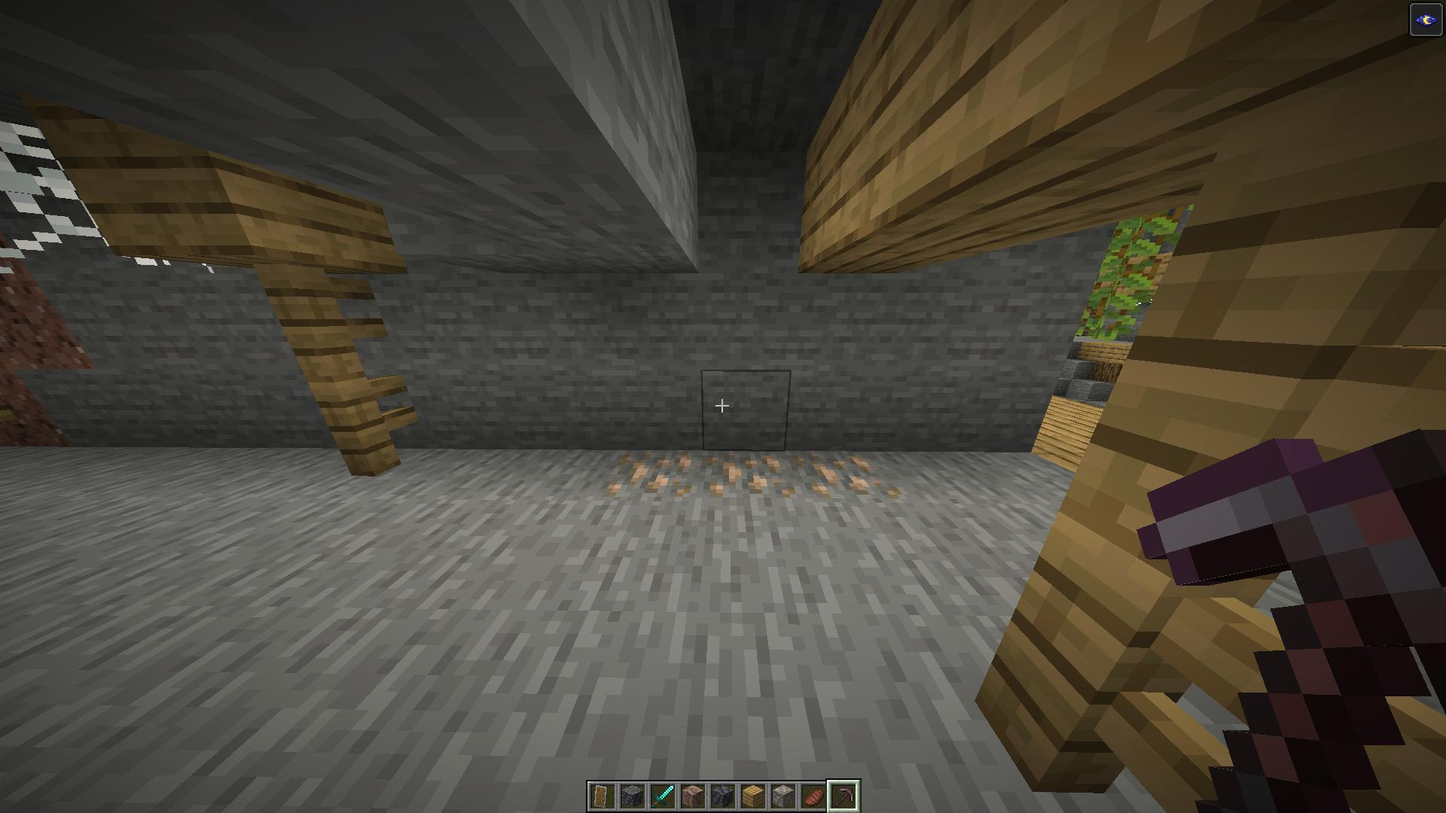iron ore: (790, 448, 896, 503), (608, 446, 699, 498), (698, 448, 790, 497)
